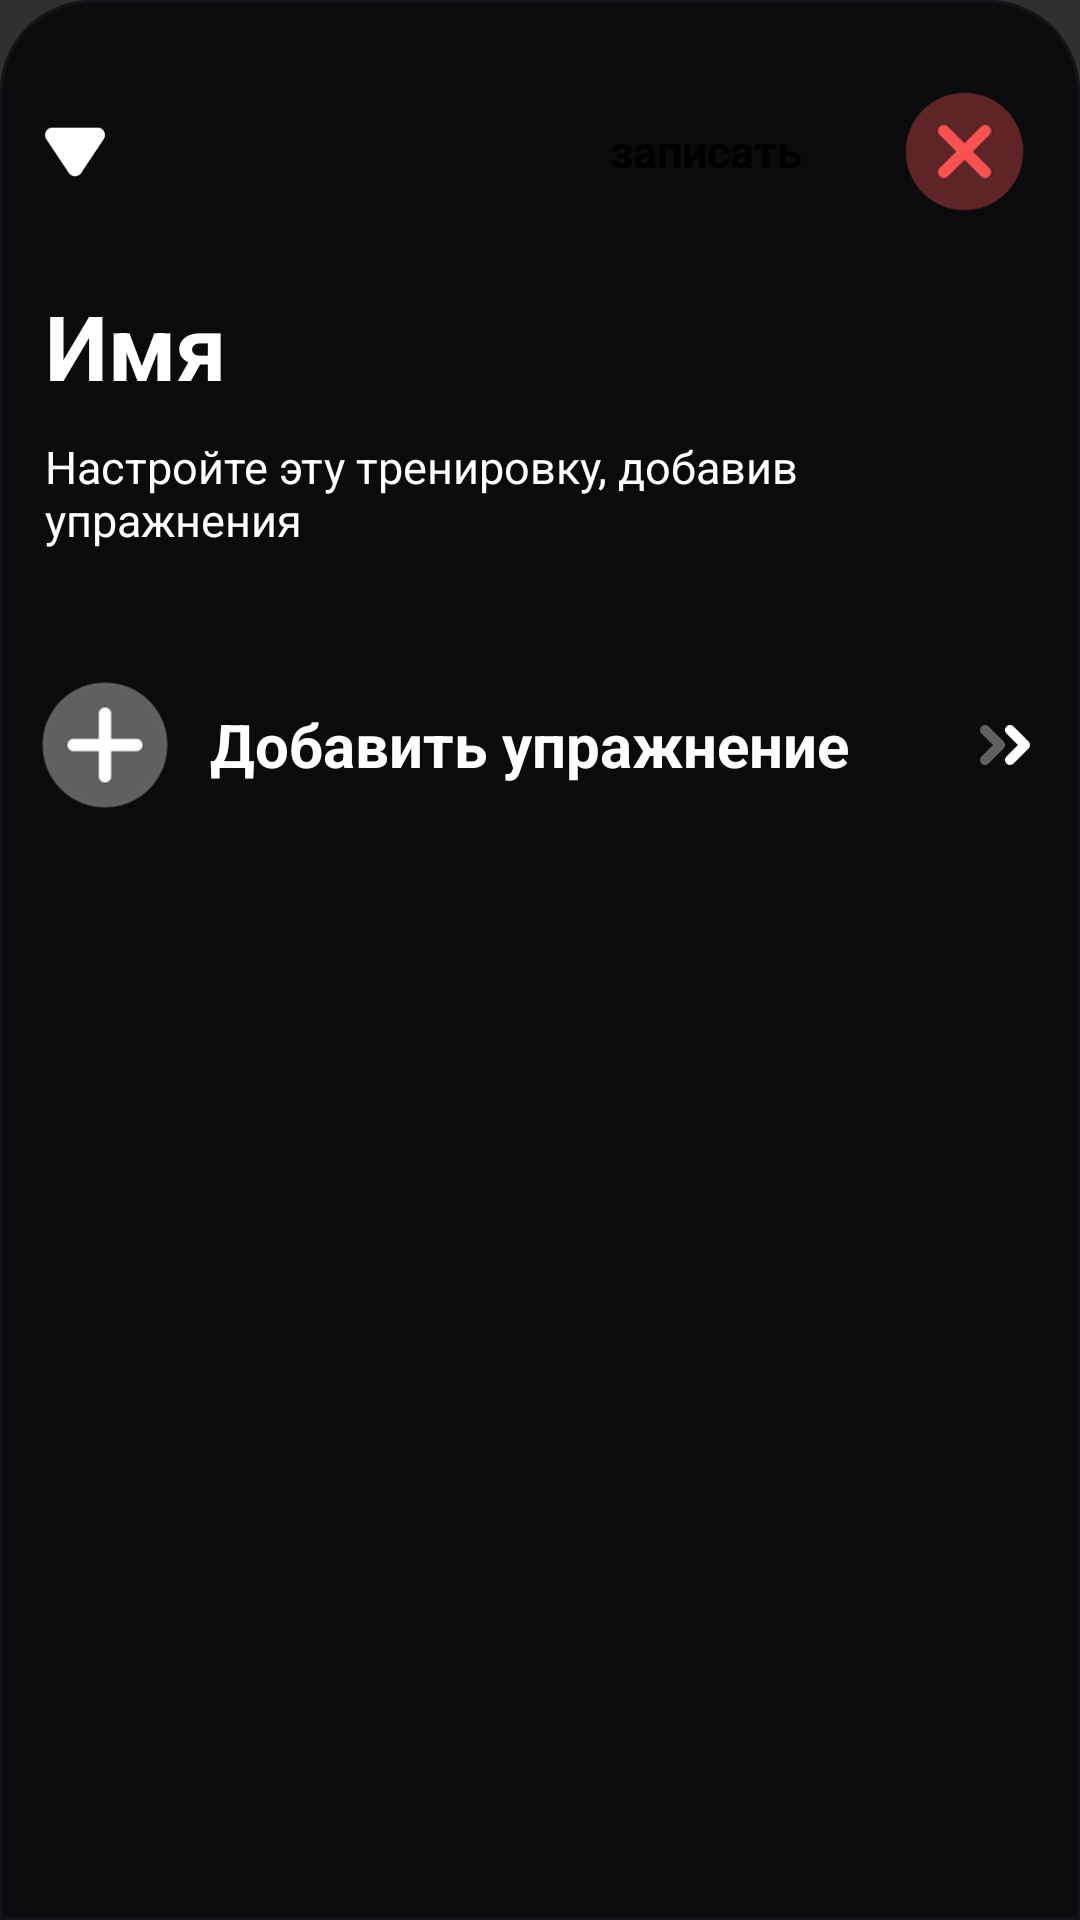

Named icons in this screenshot (1080*1920) and their centers, (x=x, y=y):
arrowdown: (x=75, y=152)
delete workouts: (x=964, y=151)
plus ex: (x=105, y=745)
